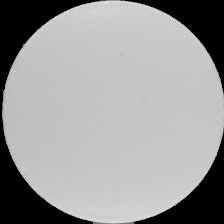0904-6346: (0, 0, 224, 224)
